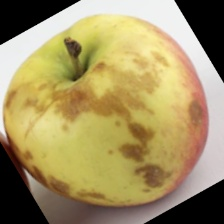apple: (20, 47, 184, 197)
